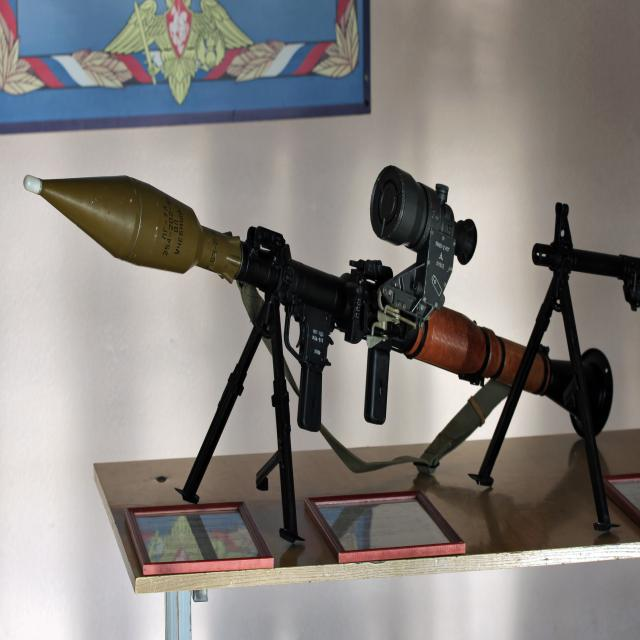Gun: (4, 138, 617, 516)
